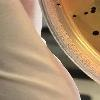black: (91, 30, 100, 37), (70, 13, 78, 19), (89, 10, 97, 14), (83, 11, 89, 16), (90, 6, 96, 10), (55, 3, 61, 6)
